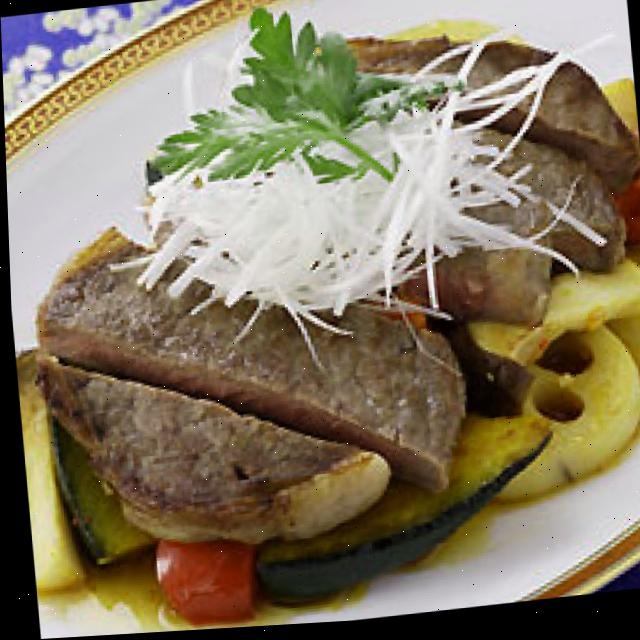牛肉菜式: (1, 0, 640, 585)
